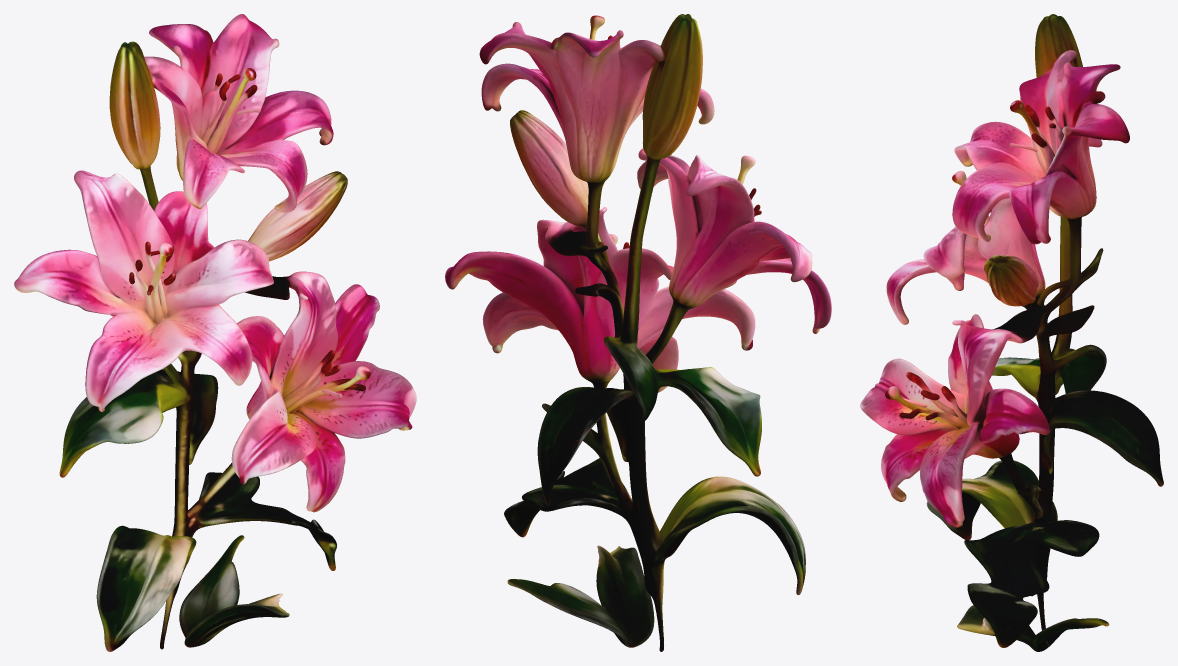
File: base_basic_shaded.opt.glb
3 renders of one model, left to right at view 1: azimuth 30°, elevation 25°; view 2: azimuth 150°, elevation 25°; view 3: azimuth 270°, elevation 25°, orthographic. The views are drawn at different scales.
Visible parts, largest first — view 1: model; view 2: model; view 3: model.
Part boxes in pixels (x1,y1,x2,y2): model: [14, 14, 416, 651]; model: [445, 14, 831, 651]; model: [860, 14, 1163, 651].
Bounding box in the file's own units: 1.14 × 1.9 × 0.8627.
Materials: 1 (1 with a texture image).
